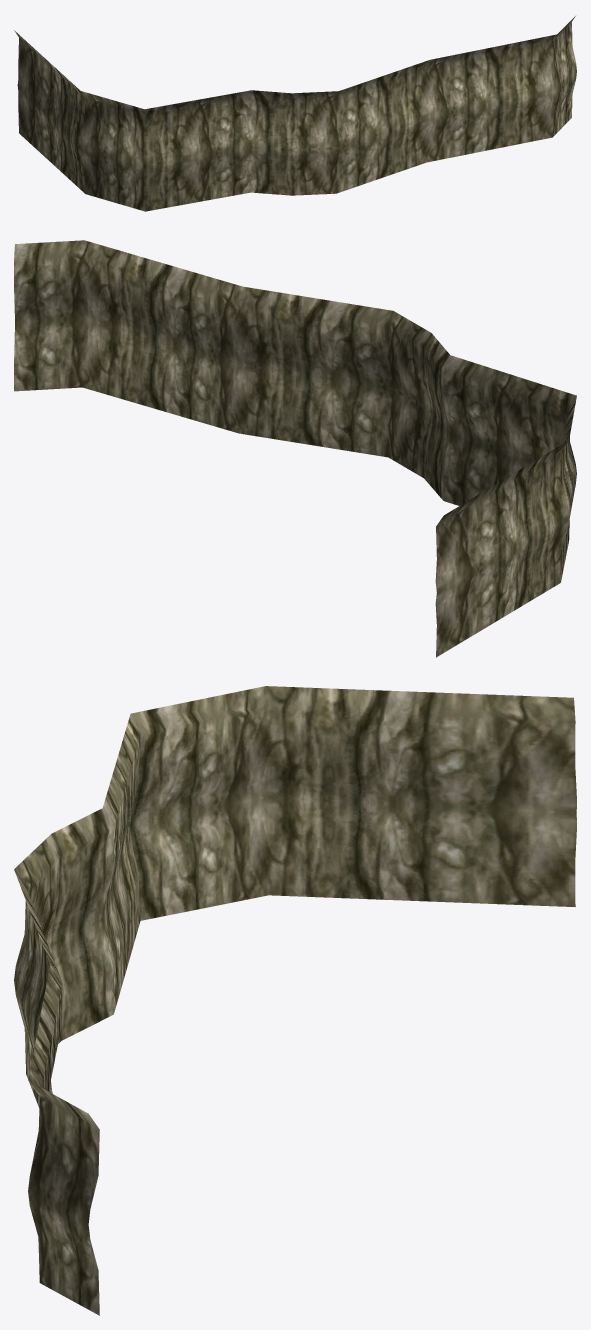
File: CB_NEWPLAYSURFACE_CB_PLAYSURFACE113.fbx
The picture shows the model from 3 angles, top to bottom: view 1: azimuth 30°, elevation 25°; view 2: azimuth 150°, elevation 25°; view 3: azimuth 270°, elevation 25°; orthographic projection. The views are drawn at different scales.
Visible parts, largest first — view 1: CB_NEWPLAYSURFACE_CB_PLAYSURFACE113; view 2: CB_NEWPLAYSURFACE_CB_PLAYSURFACE113; view 3: CB_NEWPLAYSURFACE_CB_PLAYSURFACE113.
Part boxes in pixels (left/top/right/bottom): CB_NEWPLAYSURFACE_CB_PLAYSURFACE113: left=14, top=16, right=576, bottom=211; CB_NEWPLAYSURFACE_CB_PLAYSURFACE113: left=14, top=240, right=576, bottom=657; CB_NEWPLAYSURFACE_CB_PLAYSURFACE113: left=14, top=686, right=576, bottom=1315.
Bounding box in the file's own units: 330194 × 73541 × 183697.
1 material, 1 textured.
